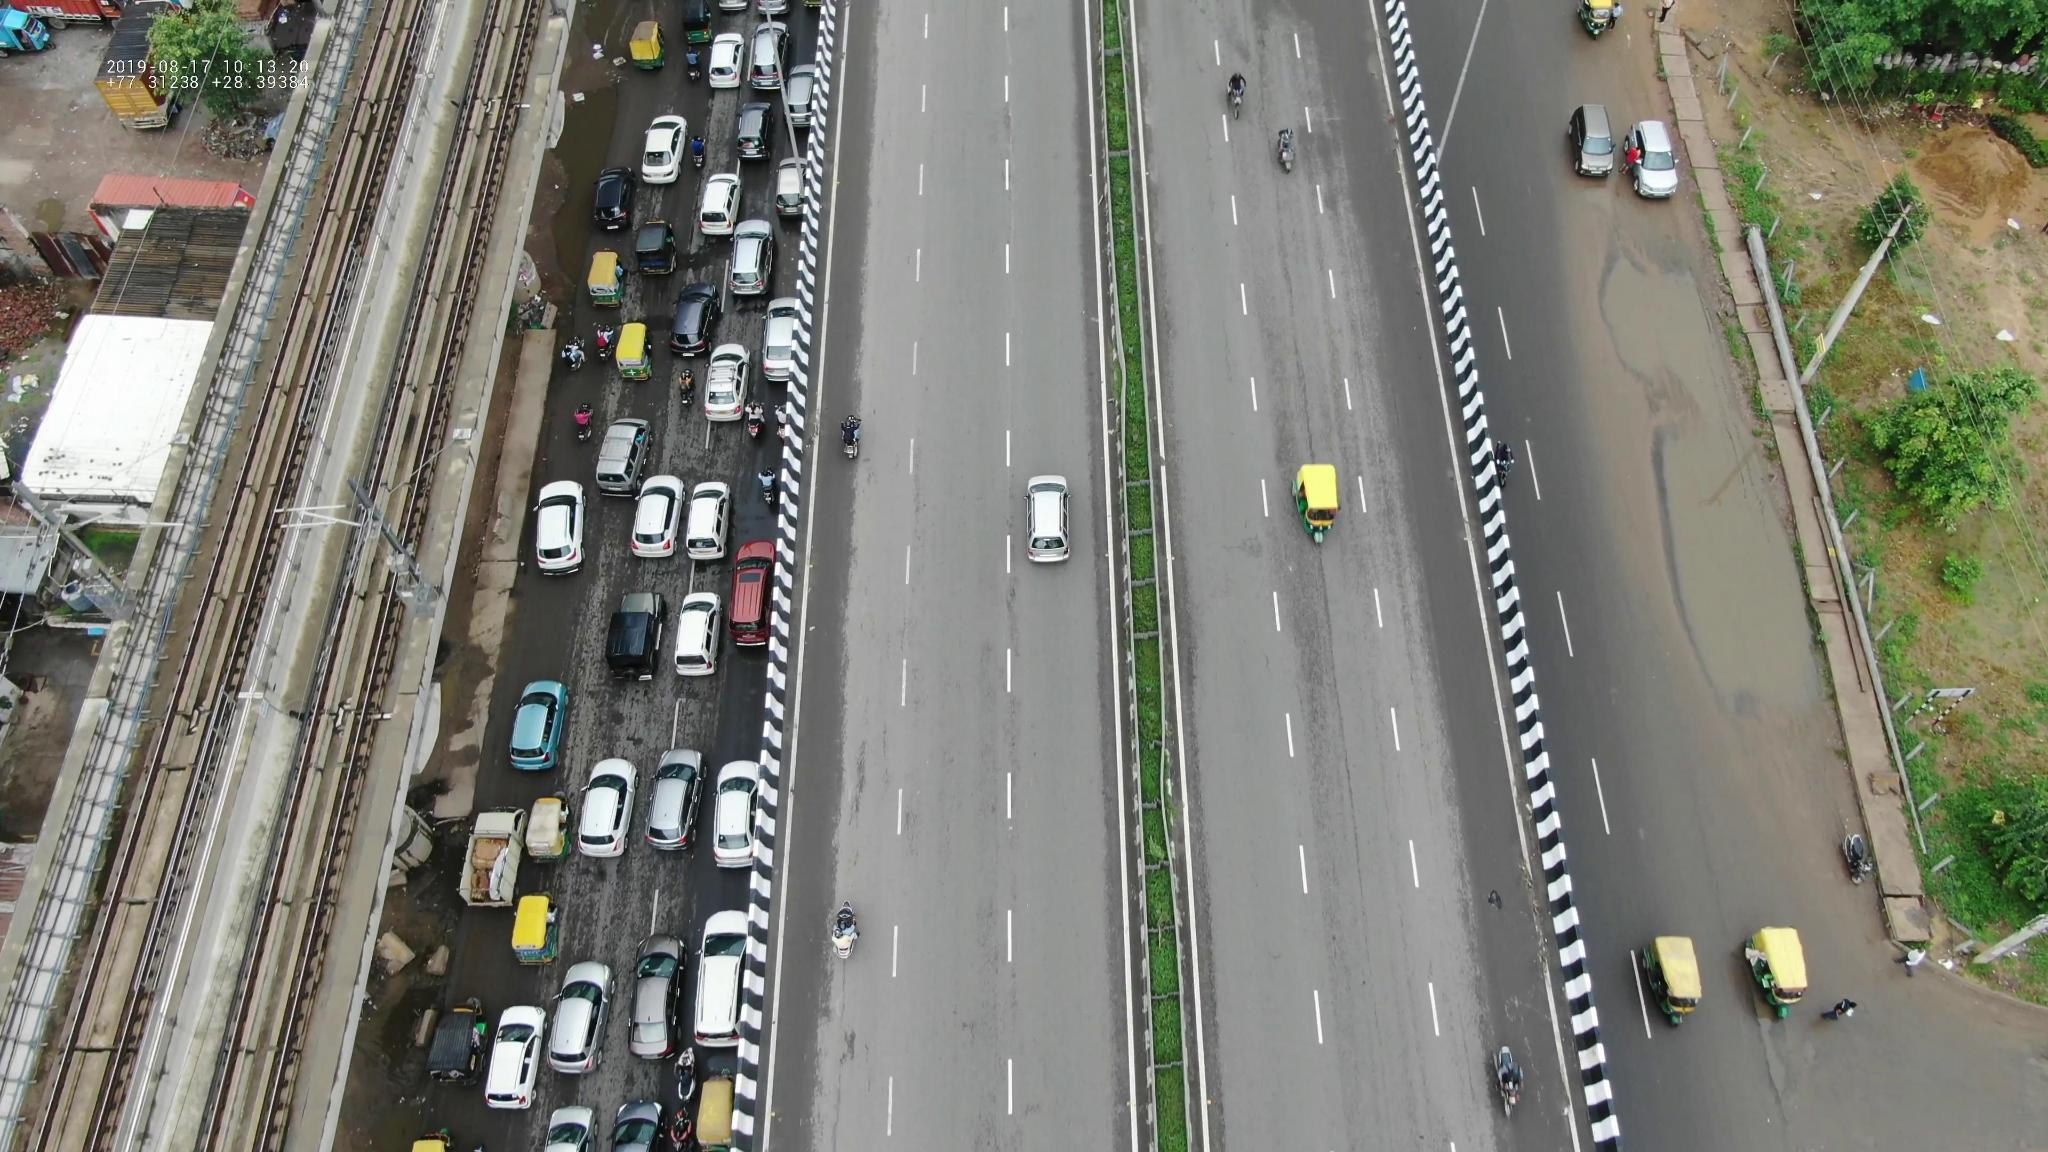Ravelling: (1266, 219, 1353, 459), (1294, 558, 1367, 831)
Waterlogging: (1595, 273, 1800, 686)
